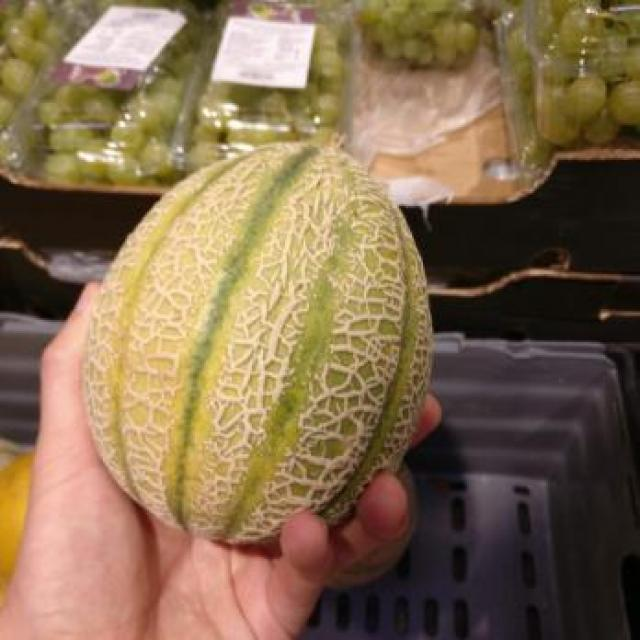Cantaloupe: (81, 144, 436, 546)
Grapes: (7, 4, 199, 188), (198, 6, 349, 158), (506, 4, 638, 154), (359, 2, 480, 70)
